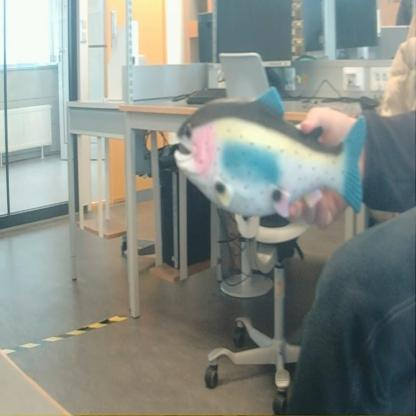rubberfish: (168, 82, 368, 221)
